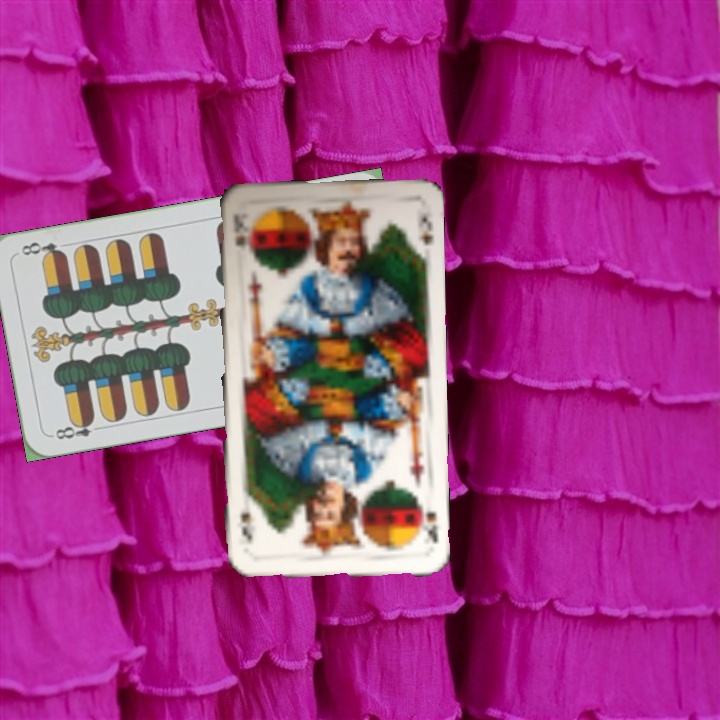E8: (47, 414, 106, 442)
SK: (414, 493, 441, 546), (230, 213, 250, 250)
